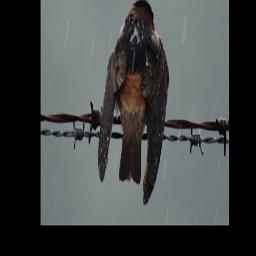Swallow: (96, 0, 169, 207)
